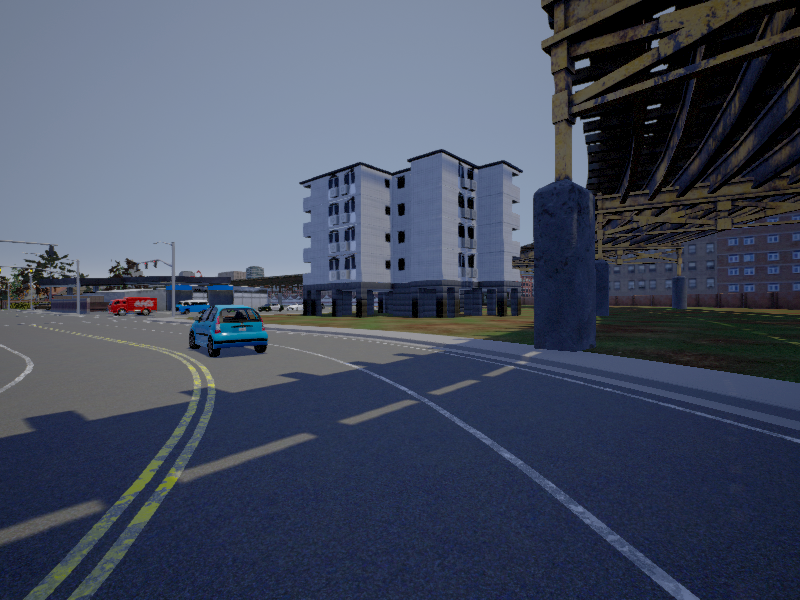Benign: (191, 303, 270, 359), (108, 296, 158, 315), (177, 298, 210, 315), (256, 300, 283, 315)
